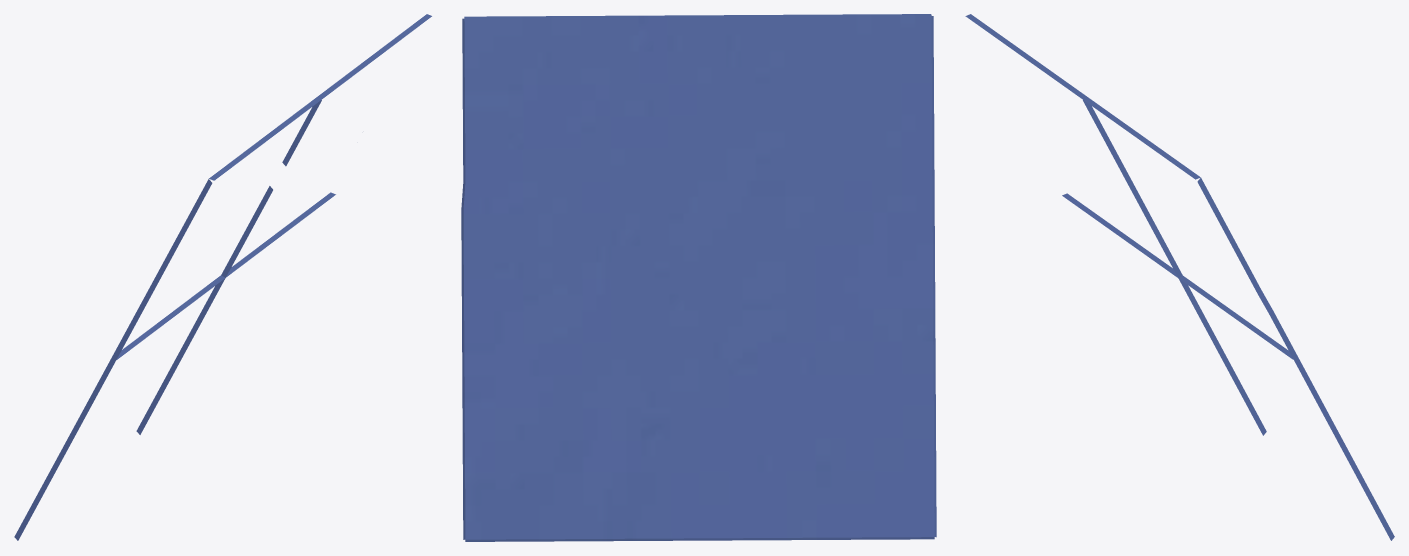
3 views of the same model, side by side, from view 1: azimuth 30°, elevation 25°; view 2: azimuth 150°, elevation 25°; view 3: azimuth 270°, elevation 25° (orthographic). The views are drawn at different scales.
Bounding box in the file's own units: 39491 × 35420 × 33541.
1 material, 1 textured.
